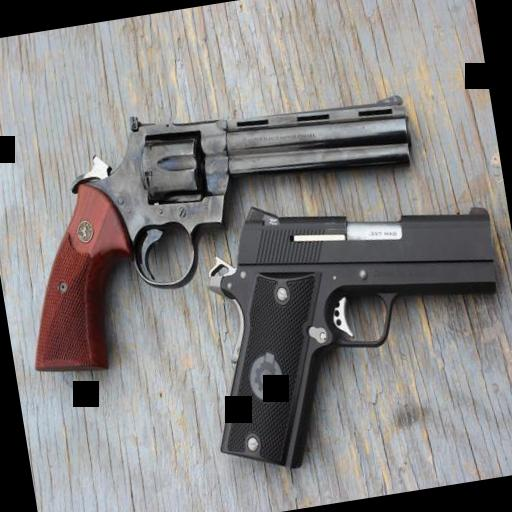Handgun: (0, 70, 444, 377), (170, 168, 512, 469)
